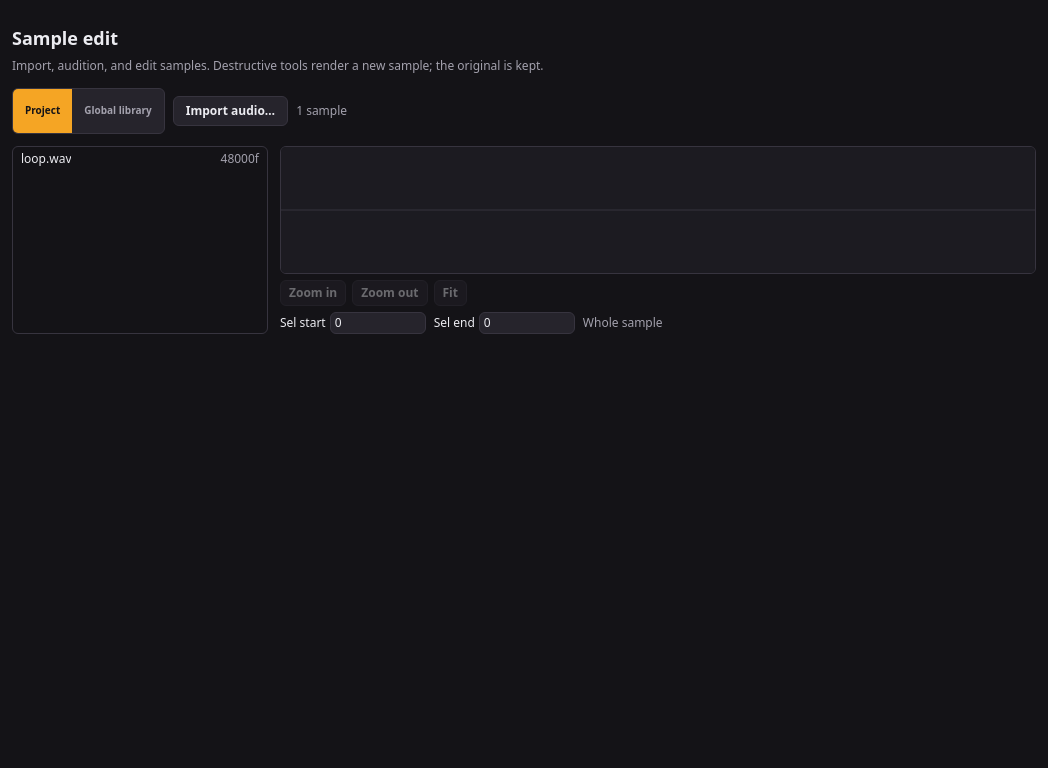
Scenario: SampleEditPanel library location (spec §8.5.7, §9.8) › clears the open sample when the location changes
Click the button "loop.wav 48000f".
click(140, 158)  # box [13,146,267,170]
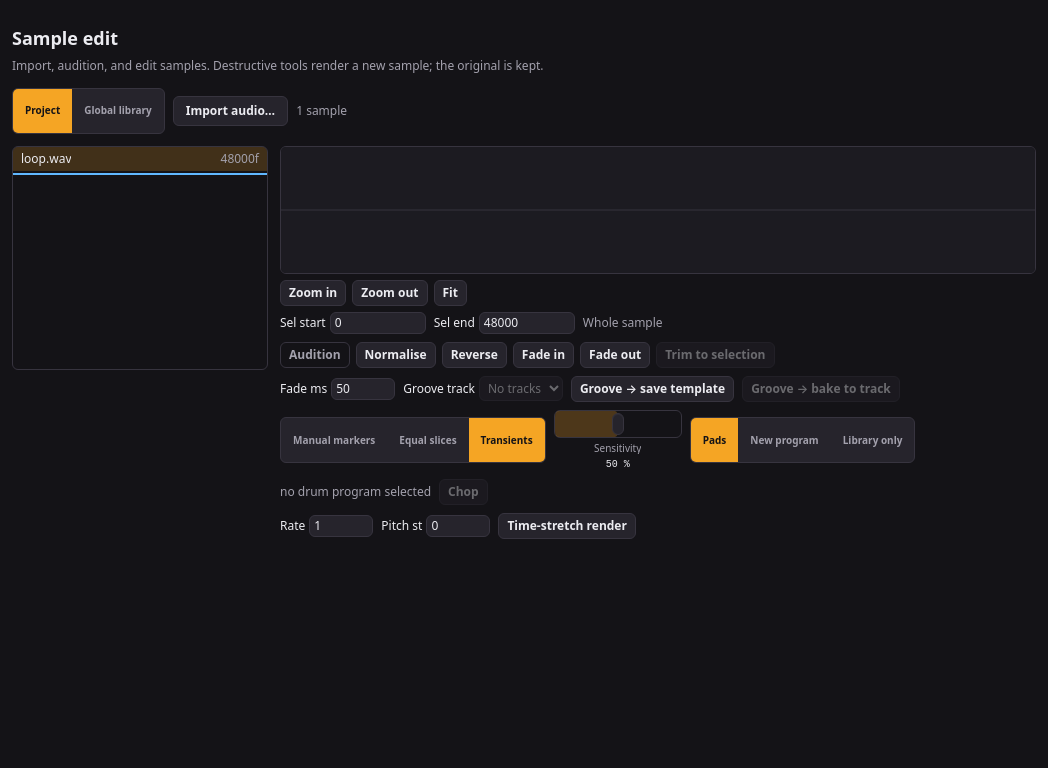
Expected: the button with test id "sample-groove" is shown, [742,376,900,402]
Click the radio button labelled "Global library".
click(118, 110)  # box [72,88,164,132]
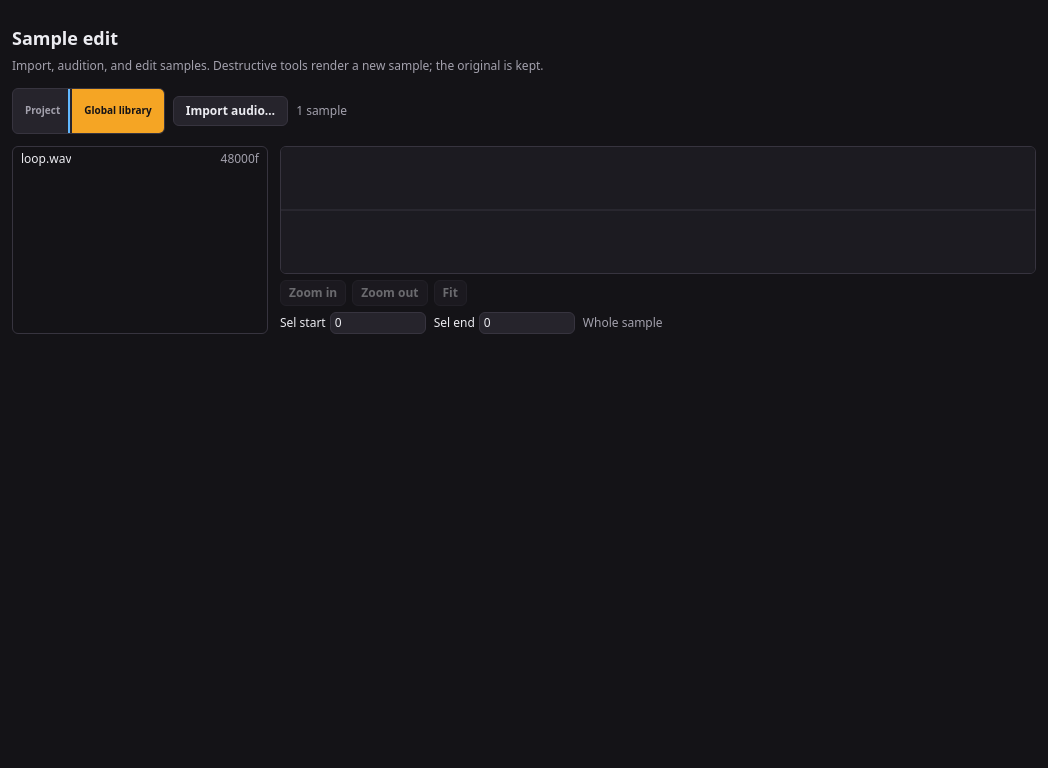
Expected: the button with test id "sample-groove" is gone
